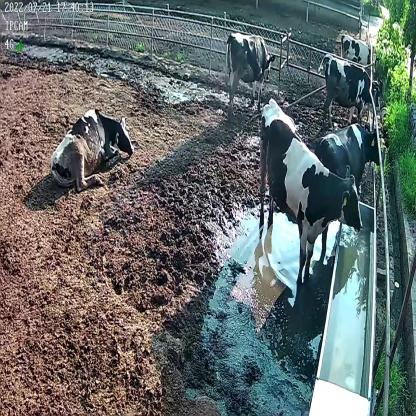cow: (258, 96, 363, 282), (50, 106, 136, 191), (317, 53, 382, 130), (223, 30, 275, 121), (316, 124, 382, 195), (341, 32, 382, 72)
